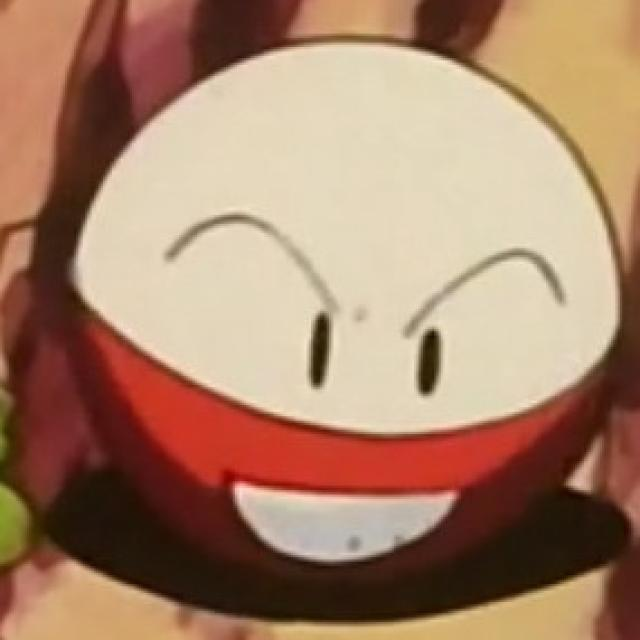Electrode: (67, 32, 634, 595)
